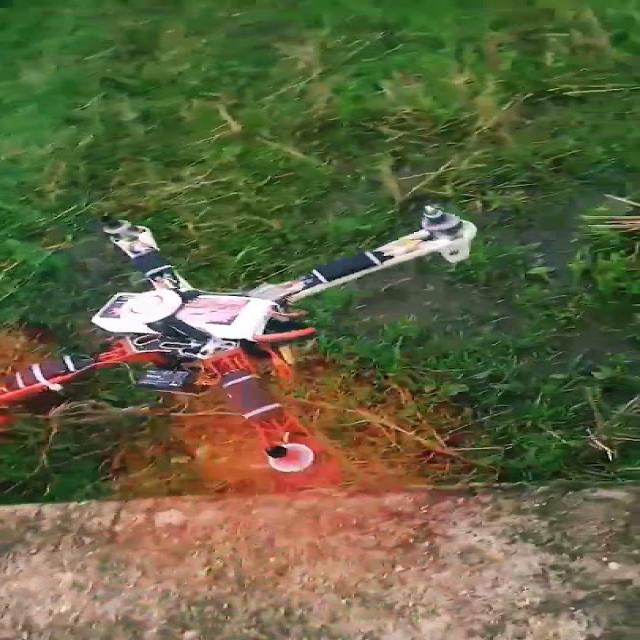drone: (0, 170, 535, 515)
